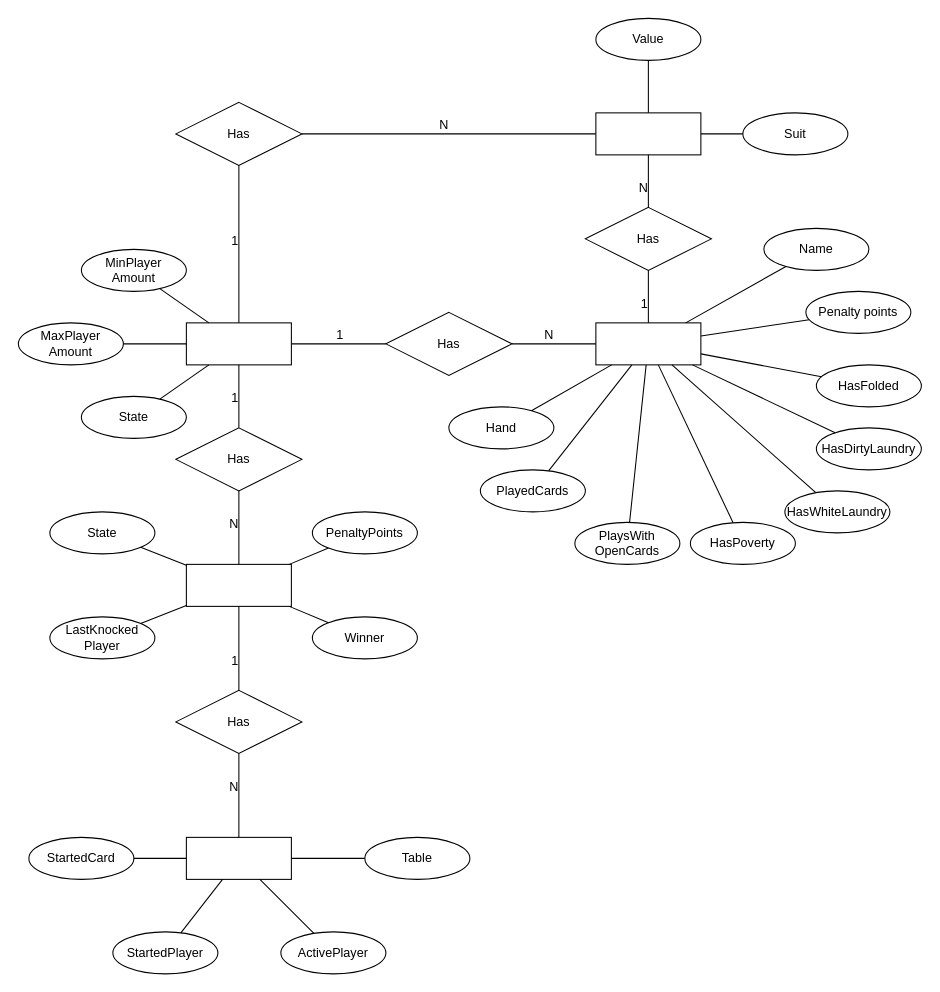
Some shapes in this 940 by 992 pixel diagram are drawn without their labels. The centre of each missing label's shape, as x and y in pixels:
"Card" goes at pixel 648 133.
"Game" goes at pixel 238 343.
"Player" goes at pixel 648 343.
"Round" goes at pixel 238 857.
"Set" goes at pixel 238 584.
